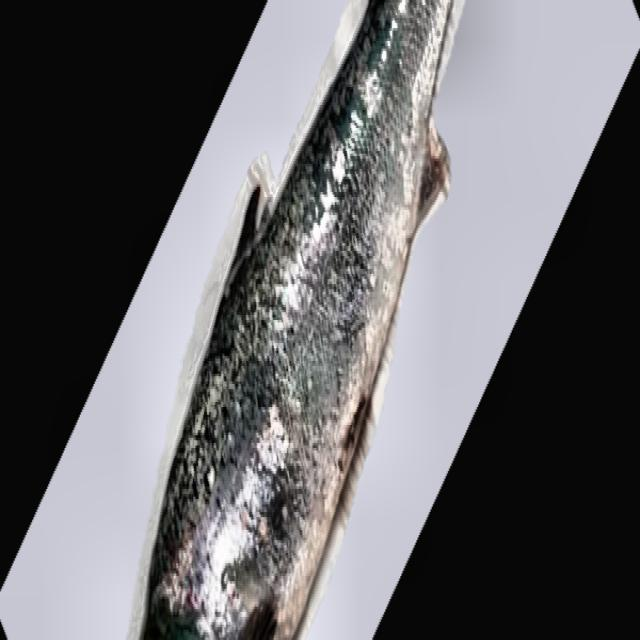mild_red: (141, 0, 452, 637)
